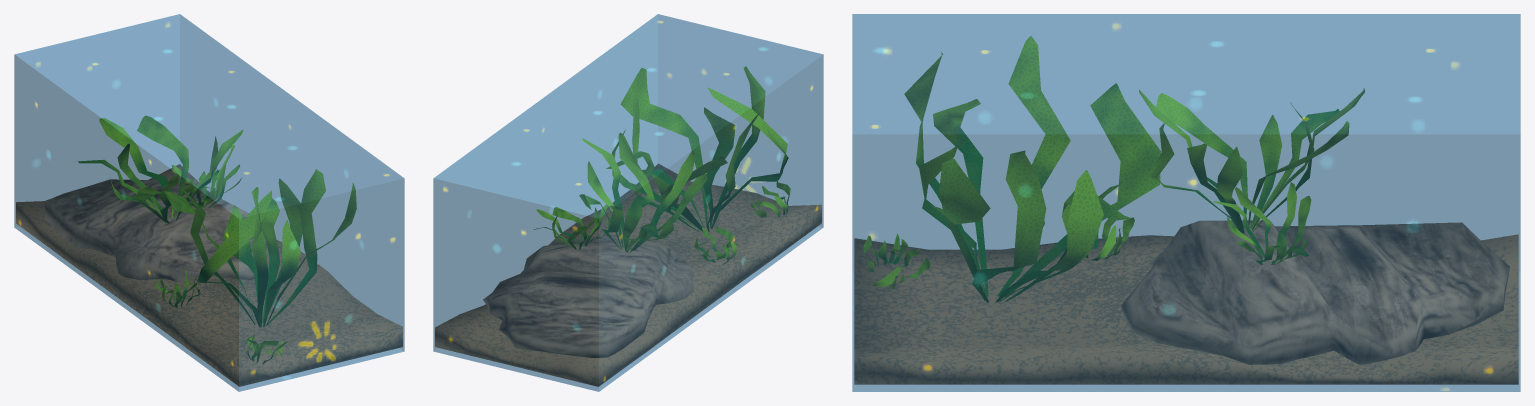
The model's file is aquarium.glb.
3 views of the same model, side by side, from view 1: azimuth 30°, elevation 25°; view 2: azimuth 150°, elevation 25°; view 3: azimuth 270°, elevation 25° (orthographic). The views are drawn at different scales.
Parts seen in each view (by area): view 1: Aquarium, Dirt, Root_Root_0, Algae2, Algae1; view 2: Aquarium, Dirt, Root_Root_0, Algae2, Algae1; view 3: Aquarium, Dirt, Root_Root_0, Algae2, Algae1.
Boxes of the visible parts, <box> form: Aquarium: <box>14,14,404,391</box>; Dirt: <box>16,164,402,386</box>; Root_Root_0: <box>44,179,269,283</box>; Algae2: <box>155,169,356,363</box>; Algae1: <box>78,115,242,223</box>; Aquarium: <box>433,14,823,391</box>; Dirt: <box>435,163,821,386</box>; Root_Root_0: <box>483,235,694,357</box>; Algae2: <box>606,66,790,264</box>; Algae1: <box>534,133,706,252</box>; Aquarium: <box>852,14,1520,391</box>; Dirt: <box>854,234,1518,384</box>; Root_Root_0: <box>1121,220,1509,364</box>; Algae2: <box>863,36,1161,302</box>; Algae1: <box>1139,88,1364,264</box>.
Bounding box in the file's own units: 202 × 200 × 470.
5 materials, 5 textured.
